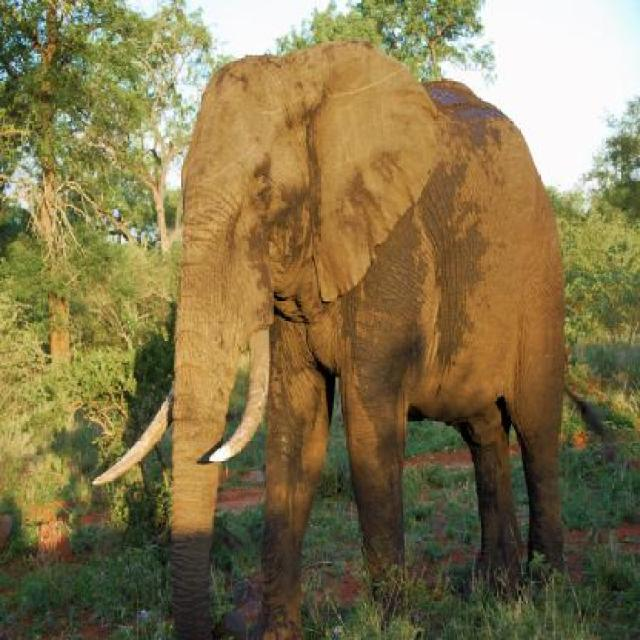Elephant: (88, 34, 574, 638)
